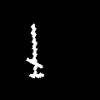double_crochet: (26, 24, 43, 77)
